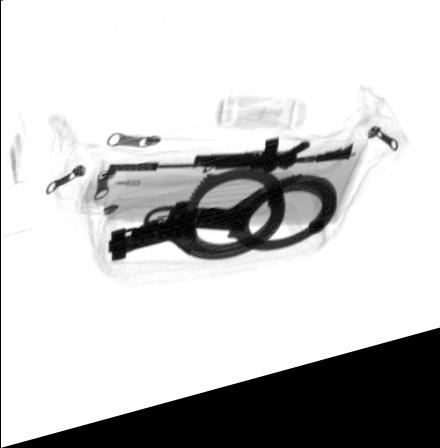Gun: (107, 151, 356, 187)
HandCuffs: (105, 178, 339, 271)
